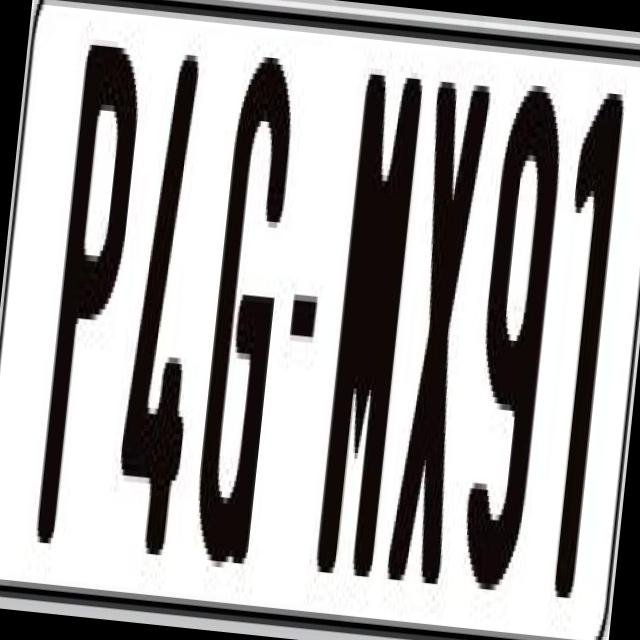1: (528, 90, 628, 633)
4: (110, 40, 228, 545)
9: (453, 65, 573, 610)
G: (187, 37, 307, 571)
M: (313, 73, 427, 590)
P: (36, 32, 155, 538)
X: (386, 80, 494, 584)
